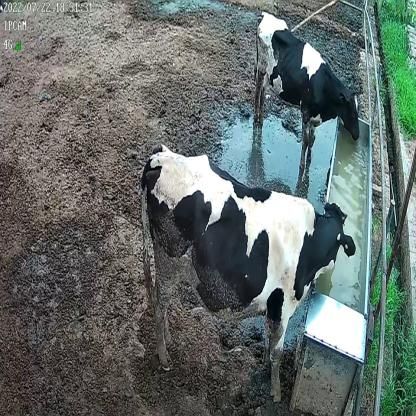cow: (140, 143, 357, 406), (252, 10, 360, 174)
